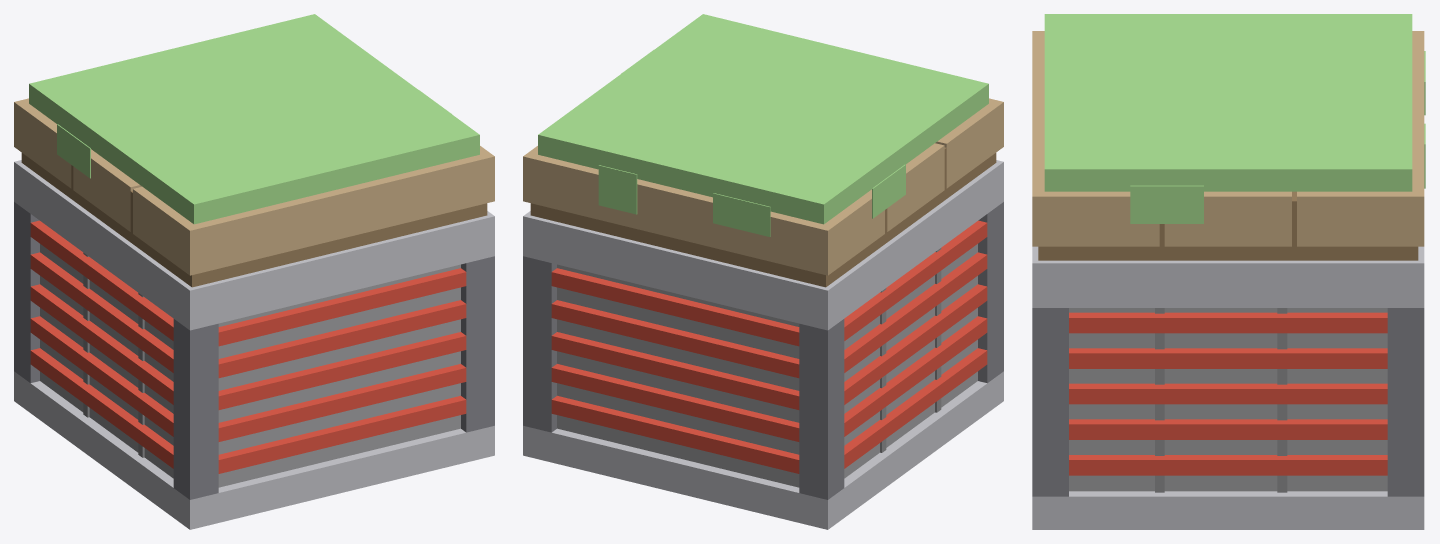
The model's file is sticky_piston_5_held.gltf.
3 renders of one model, left to right at view 1: azimuth 30°, elevation 25°; view 2: azimuth 150°, elevation 25°; view 3: azimuth 270°, elevation 25°, orthographic. The views are drawn at different scales.
Visible parts, largest first — view 1: cinnabar_sticky_piston_5_held; view 2: cinnabar_sticky_piston_5_held; view 3: cinnabar_sticky_piston_5_held.
Boxes of the visible parts, bbox=[...] form: cinnabar_sticky_piston_5_held: bbox=[14, 14, 494, 529]; cinnabar_sticky_piston_5_held: bbox=[523, 14, 1003, 529]; cinnabar_sticky_piston_5_held: bbox=[1032, 14, 1425, 529].
Bounding box in the file's own units: 0.161 × 0.16 × 0.1605.
